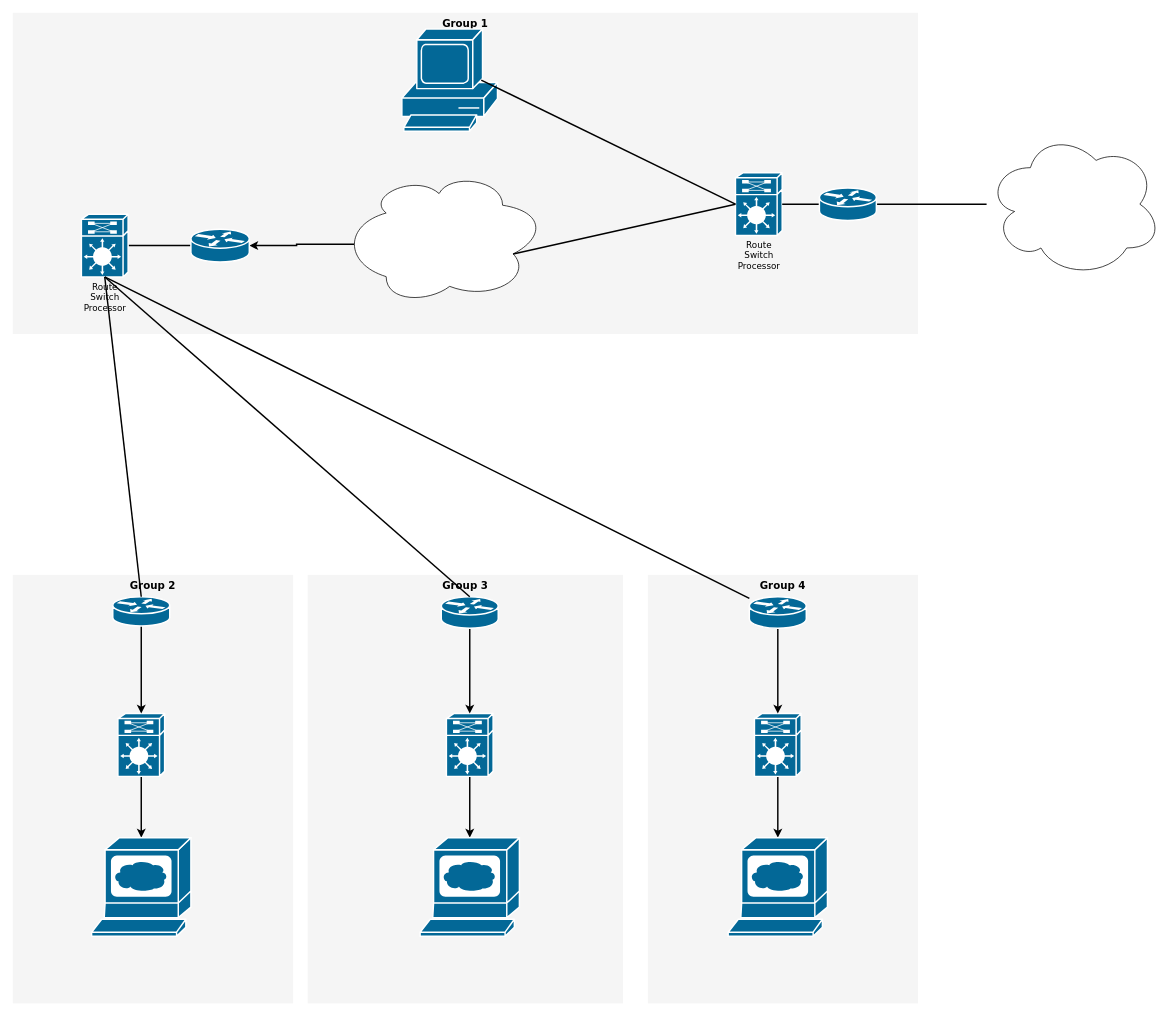
The diagram is 1175 pixels wide and 1015 high, and some of its shapes have lost their labels. Here are the shapes that lost their labels. From the top down, the centre of each, then its label:
At pixel 1074 203: "Internet".
At pixel 449 237: "LAN".
